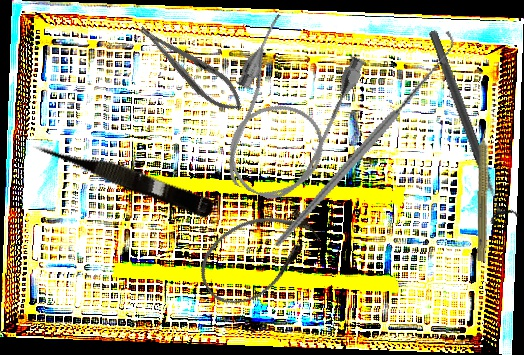Cannula: (198, 9, 372, 214), (187, 192, 329, 318)
Fixation Ring: (418, 25, 521, 228)
Handpiece: (475, 120, 494, 262)
Hook Surgical: (227, 29, 500, 250)
Micro Scissor: (29, 131, 218, 220)
Needle Holder: (131, 15, 251, 121)
